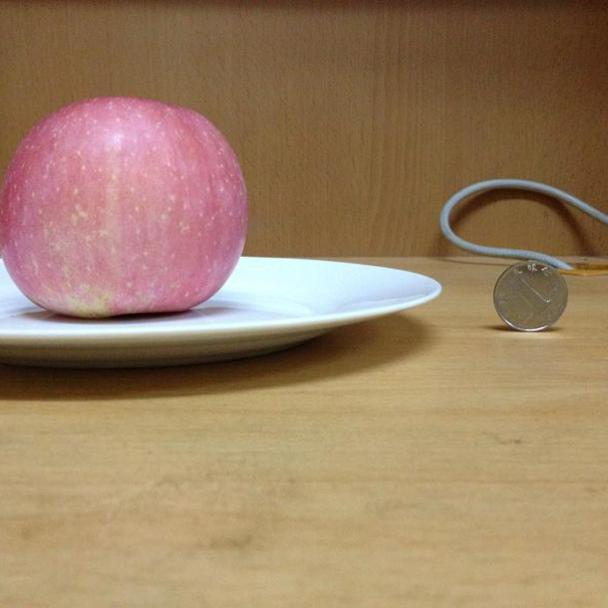apple: (1, 94, 250, 320)
